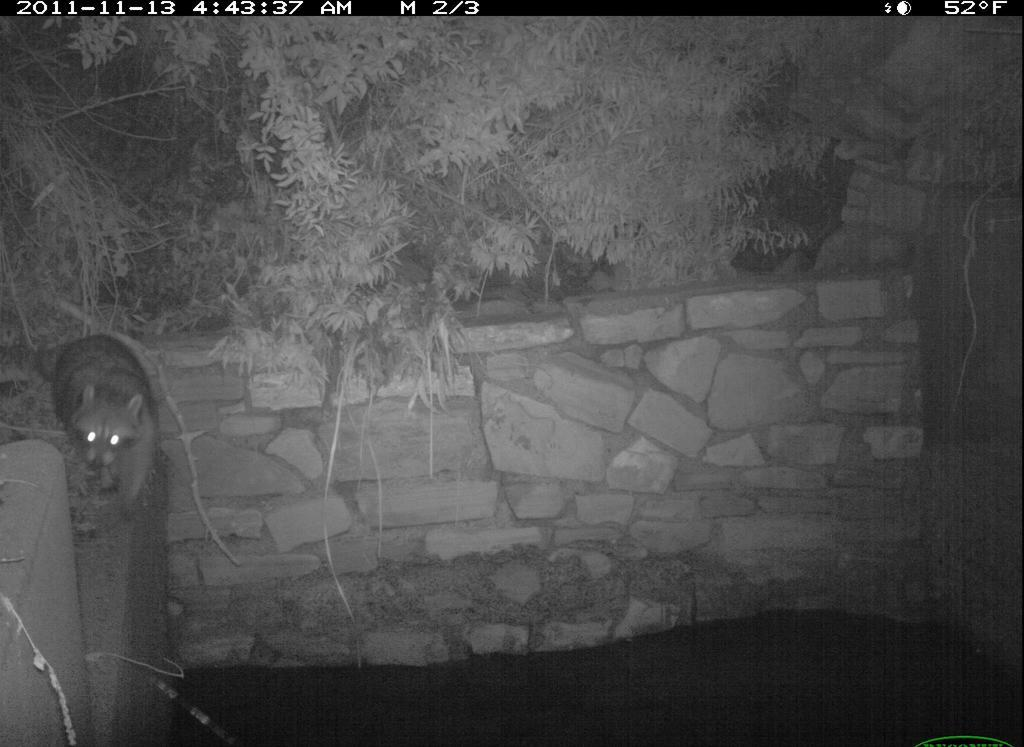raccoon: (30, 322, 178, 516)
